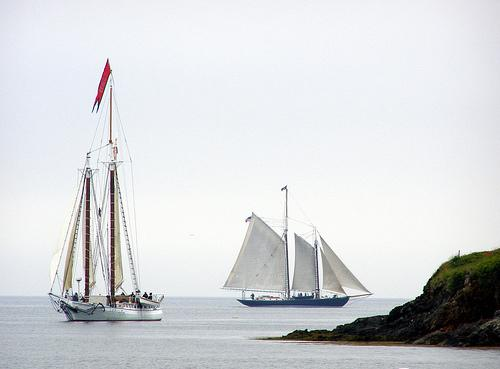Ship: (49, 60, 167, 324), (223, 187, 374, 308)
